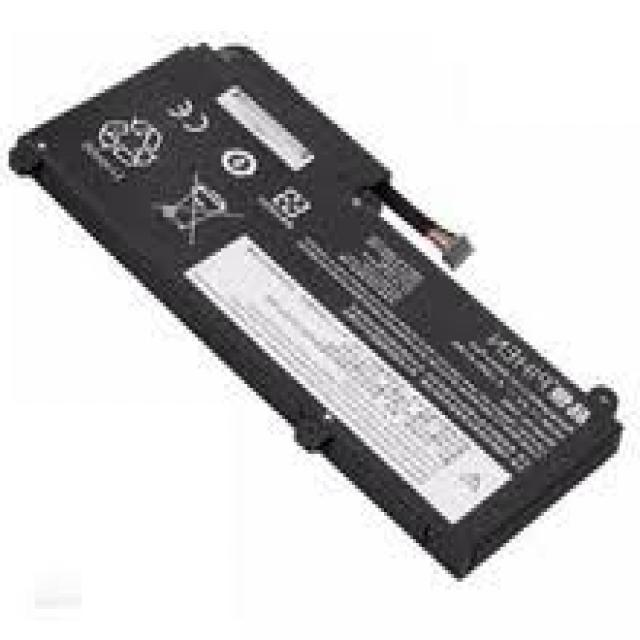battery: (9, 41, 621, 580)
